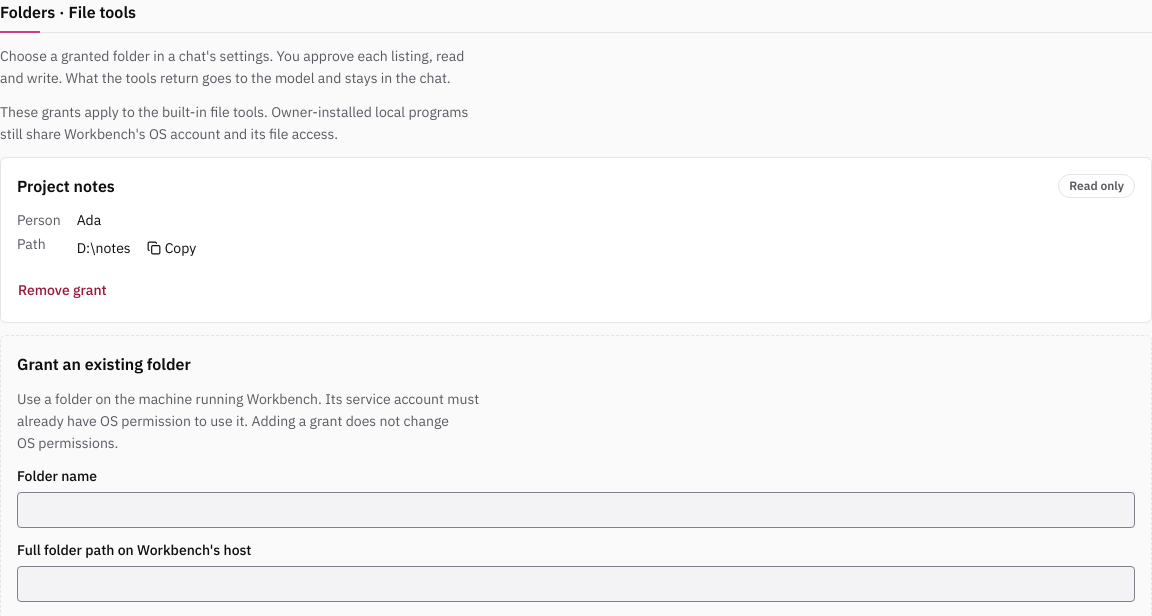
Test case: removing a grant › asks first: the safe answer has focus, Escape declines, and focus goes back to Remove grant
Click the button with aria-label "Remove grant for Project notes" at (62, 290), box [9,274,116,306]
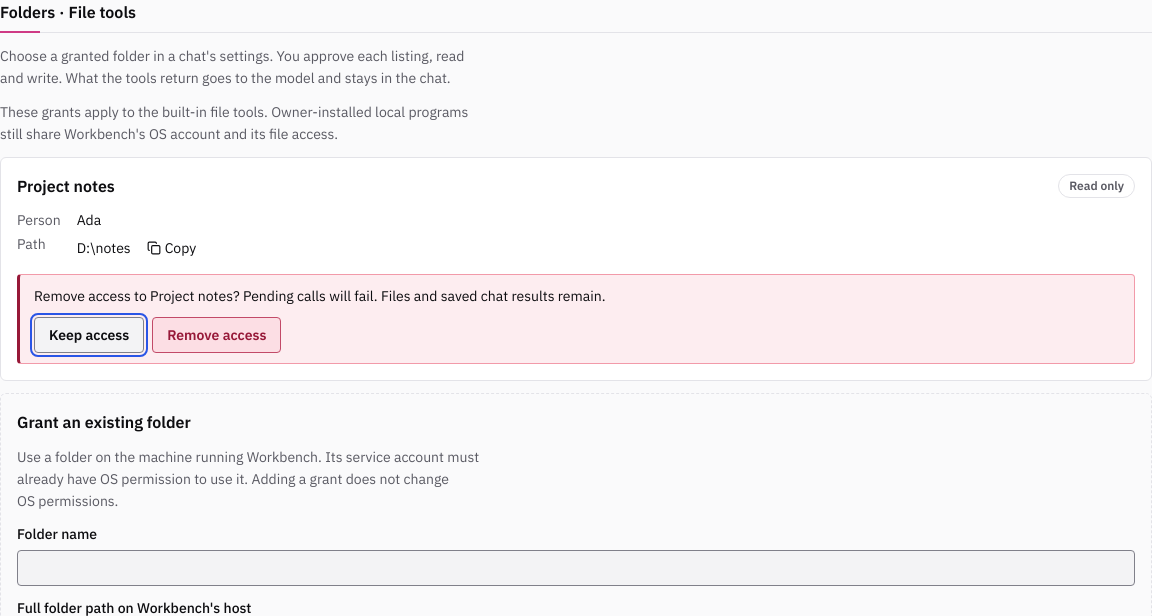
Press Escape in the button with aria-label "Keep access to Project notes", box [34,317,144,353]
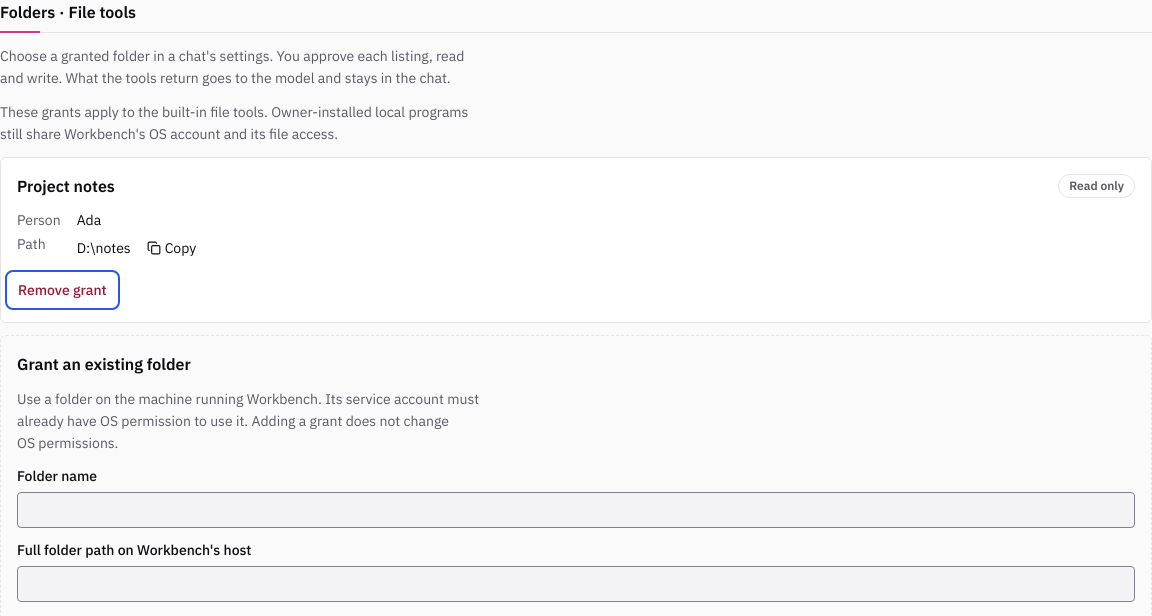
Expected: the text "Remove access to Project notes?" is gone
